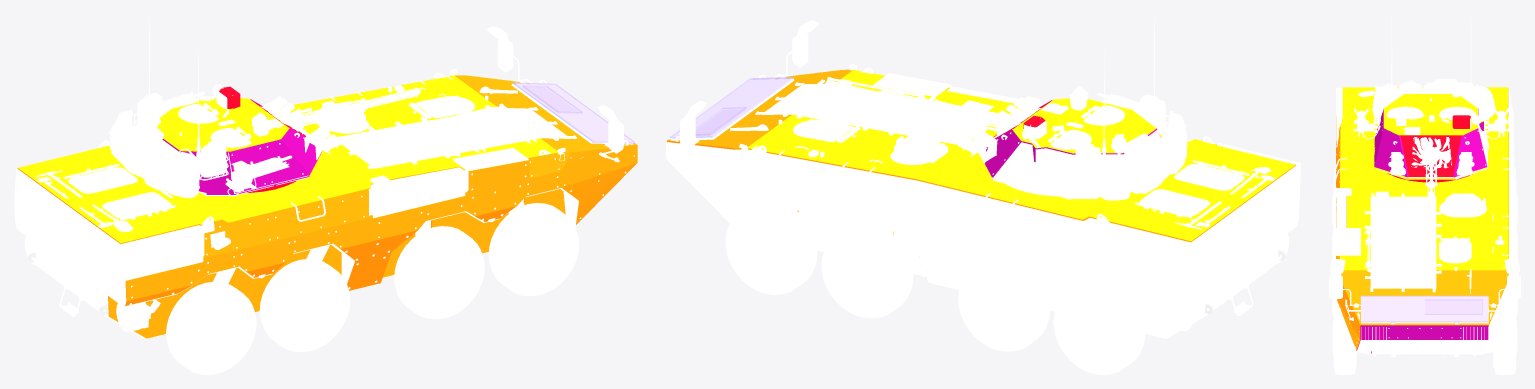
File: ZBL08.gltf
3 renders of one model, left to right at view 1: azimuth 30°, elevation 25°; view 2: azimuth 150°, elevation 25°; view 3: azimuth 270°, elevation 25°, orthographic. The views are drawn at different scales.
Parts seen in each view (by area): view 1: 2, ZBL08_Hull_Col, 2_1, ZBL08_Hull_Col_2, 2_2.001, 2_4, 2_9, ZBL08_Turret_Col_1, ZBL08_Turret_Col, ZBL08_Watershield_Col, 2_5, 2_8 (+4 smaller); view 2: 2, 2_1, ZBL08_Hull_Col_2, 2_4, 2_2.001, 2_9, ZBL08_Hull_Col, ZBL08_Turret_Col, ZBL08_Watershield_Col, 2_5, 2_8, ZBL08_Turret_Col_1 (+3 smaller); view 3: 2, ZBL08_Hull_Col_2, 2_2.001, ZBL08_Hull_Col, 2_4, 2_1, ZBL08_Watershield_Col, ZBL08_Turret_Col, ZBL08_Hull_Col_1, ZBL08_Turret_Col_2, ZBL08_Turret_Col_1, 2_5 (+6 smaller).
Part boxes in pixels (box(x1,y1,x2,y2)): 2: box(14, 68, 634, 339); ZBL08_Hull_Col: box(17, 75, 637, 338); 2_1: box(166, 203, 579, 374); ZBL08_Hull_Col_2: box(18, 75, 557, 242); 2_2.001: box(24, 26, 635, 332); 2_4: box(133, 14, 342, 196); 2_9: box(108, 110, 199, 198); ZBL08_Turret_Col_1: box(162, 99, 322, 194); ZBL08_Turret_Col: box(157, 97, 309, 194); ZBL08_Watershield_Col: box(513, 82, 634, 144); 2_5: box(260, 87, 420, 136); 2_8: box(135, 93, 226, 177); 2: box(666, 63, 1300, 338); 2_1: box(725, 200, 1145, 374); ZBL08_Hull_Col_2: box(747, 69, 1295, 241); 2_4: box(958, 14, 1170, 199); 2_2.001: box(668, 20, 1289, 331); 2_9: box(1098, 111, 1187, 200); ZBL08_Hull_Col: box(667, 69, 1295, 242); ZBL08_Turret_Col: box(1012, 98, 1156, 153); ZBL08_Watershield_Col: box(669, 77, 793, 139); 2_5: box(878, 88, 1041, 137); 2_8: box(1075, 94, 1165, 180); ZBL08_Turret_Col_1: box(984, 100, 1157, 177); 2: box(1334, 84, 1515, 357); ZBL08_Hull_Col_2: box(1336, 87, 1508, 270); 2_2.001: box(1329, 238, 1520, 356); ZBL08_Hull_Col: box(1336, 88, 1508, 350); 2_4: box(1353, 14, 1509, 180); 2_1: box(1332, 174, 1517, 374); ZBL08_Watershield_Col: box(1360, 295, 1488, 322); ZBL08_Turret_Col: box(1375, 94, 1486, 179); ZBL08_Hull_Col_1: box(1356, 325, 1488, 353); ZBL08_Turret_Col_2: box(1387, 115, 1472, 182); ZBL08_Turret_Col_1: box(1374, 108, 1487, 177); 2_5: box(1411, 137, 1451, 208).
Bounding box in the file's own units: 8.06 × 4.26 × 3.12.
